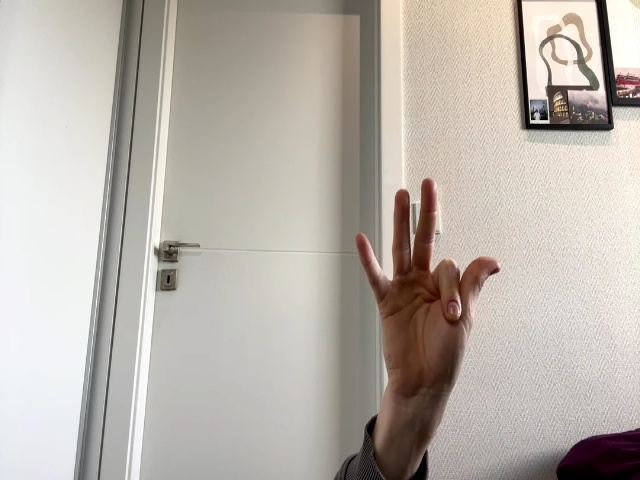F: (356, 178, 501, 392)
